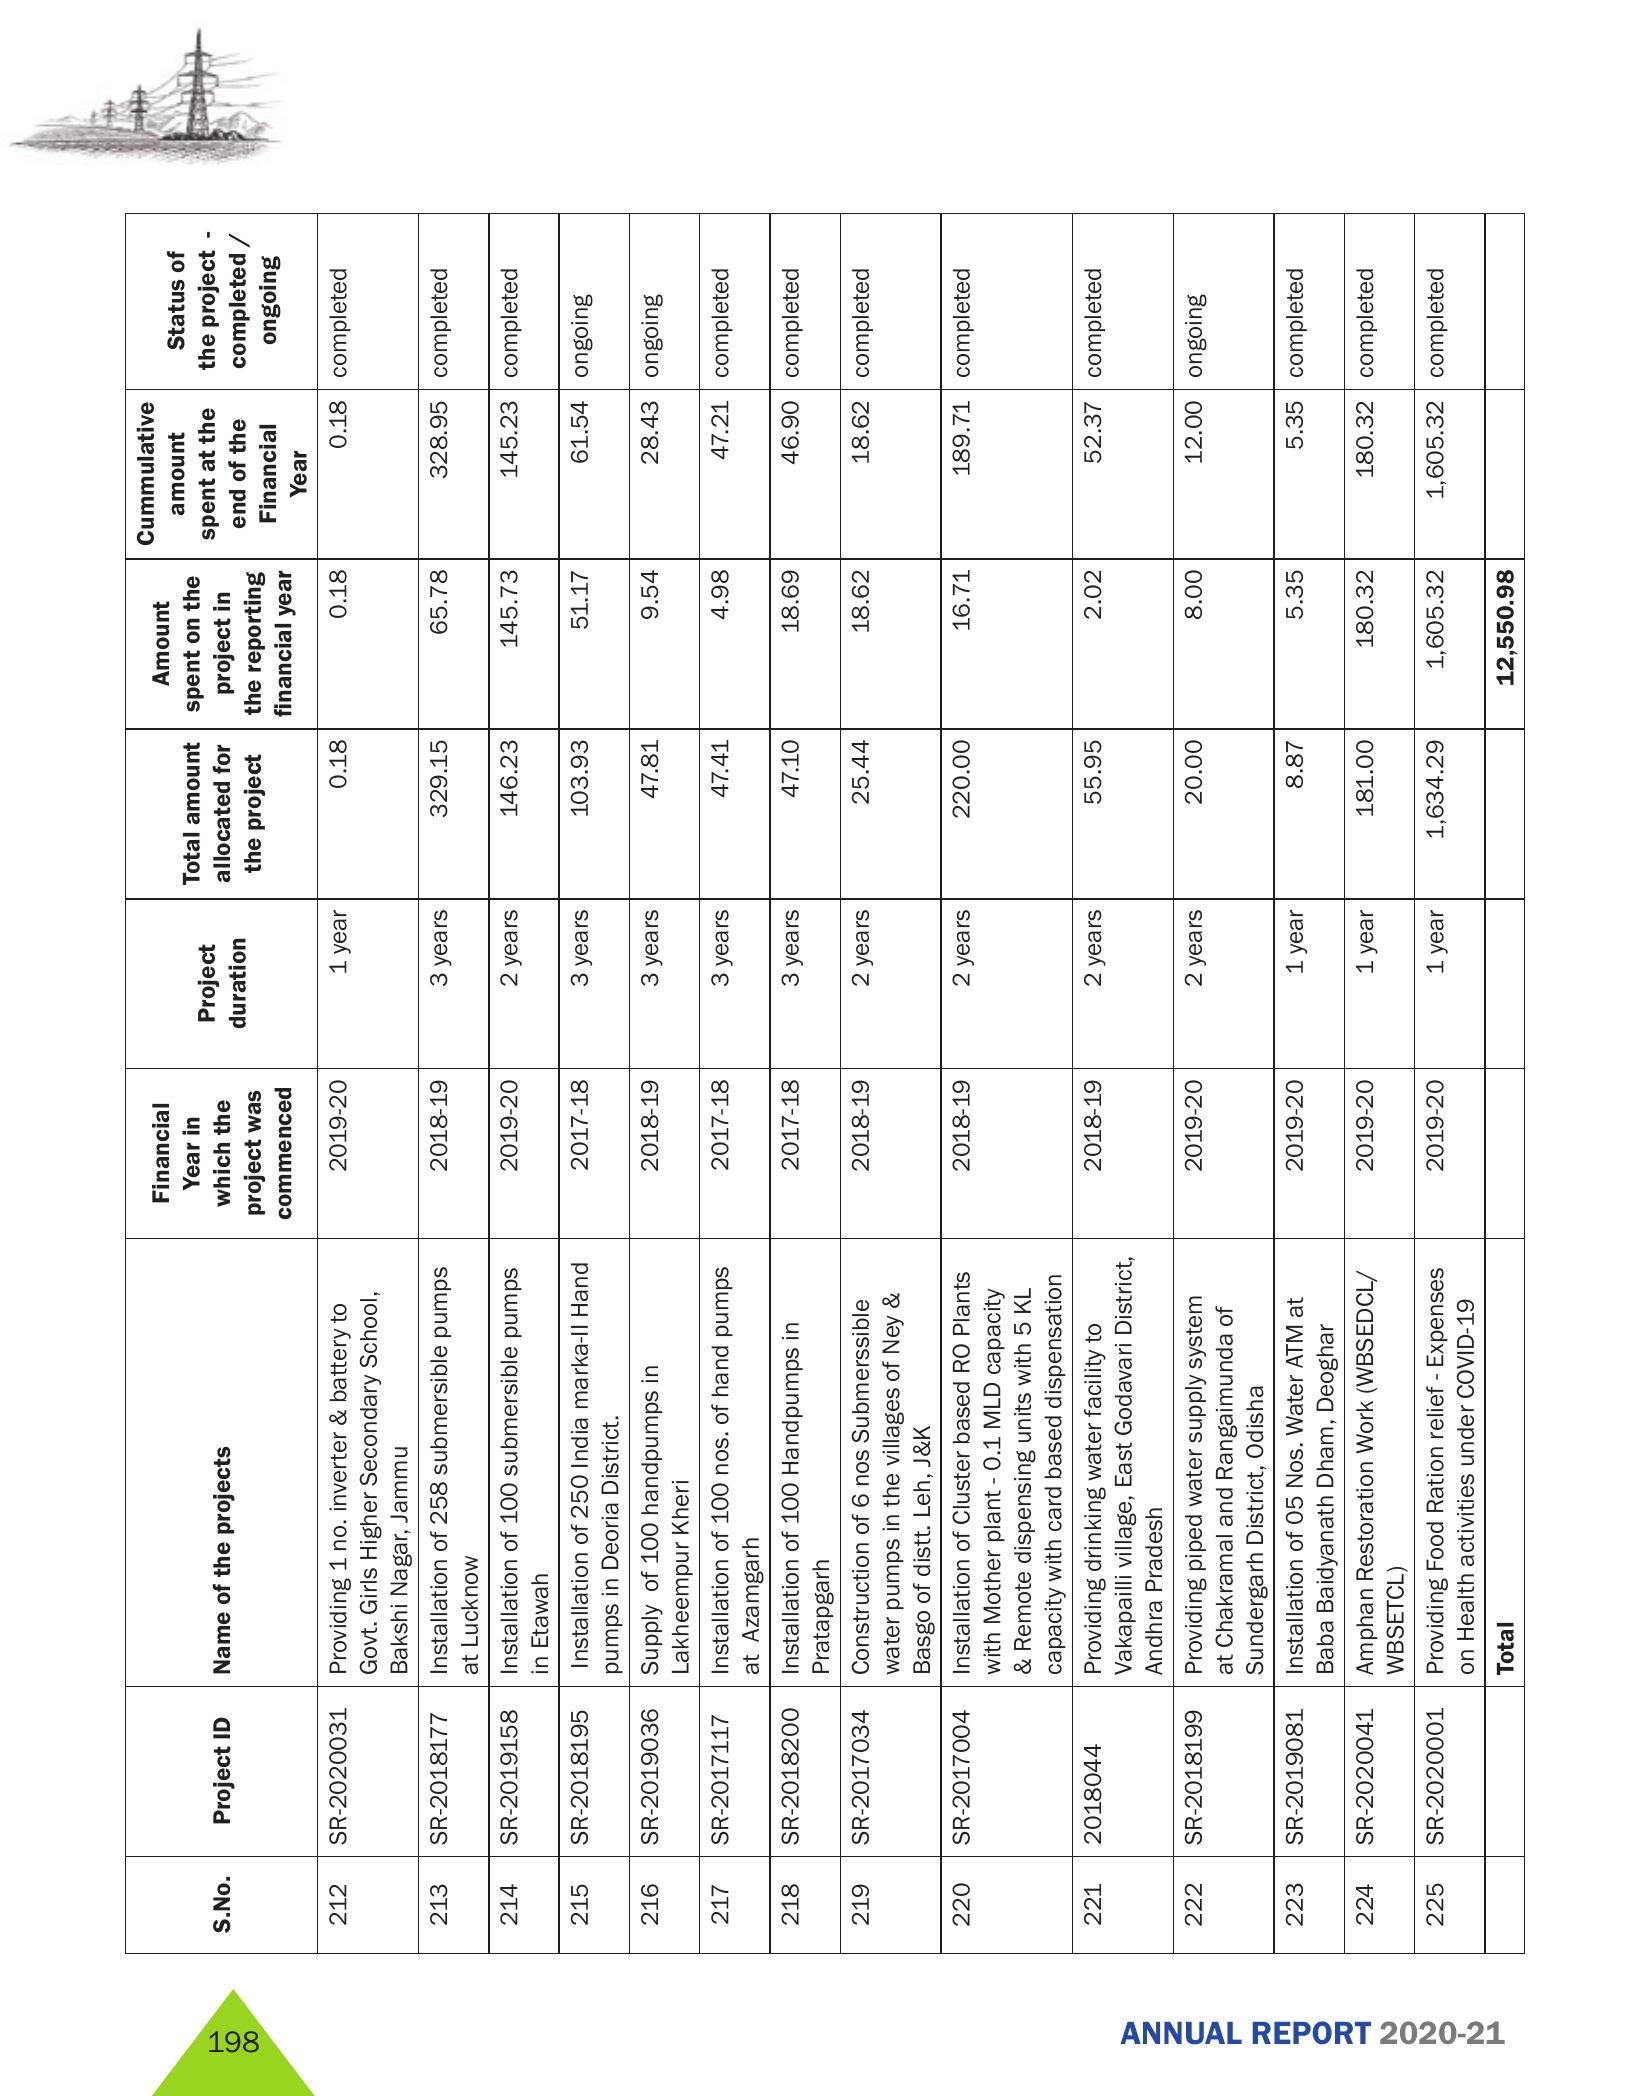Footer: (0, 1968, 1650, 2096)
Header: (0, 0, 1650, 175)
Table: (82, 218, 1573, 1982)
